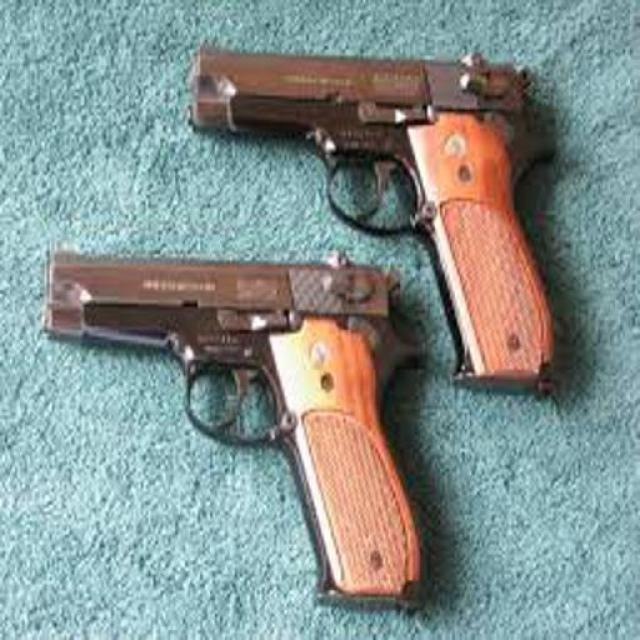pistol: (38, 246, 436, 610), (185, 39, 562, 401)
